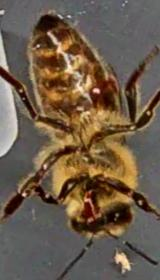varroa_mite: (75, 74, 122, 111)
